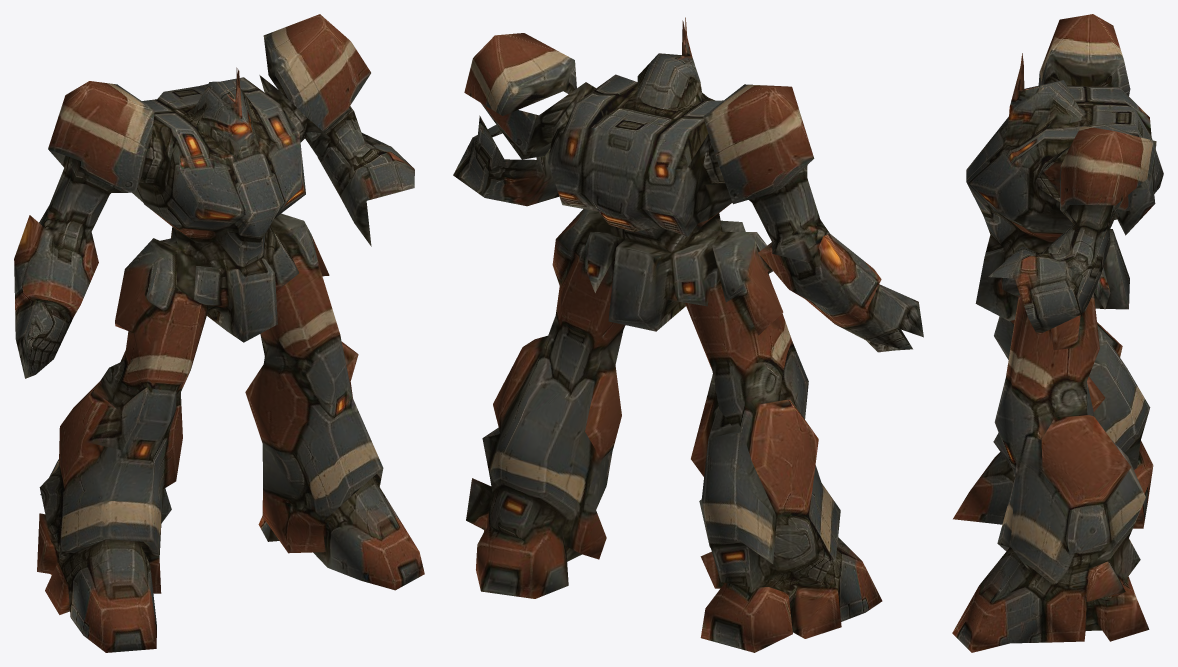
The model's file is basalt.glb.
3 renders of one model, left to right at view 1: azimuth 30°, elevation 25°; view 2: azimuth 150°, elevation 25°; view 3: azimuth 270°, elevation 25°, orthographic. The views are drawn at different scales.
Parts seen in each view (by area): view 1: torso, legR, legL, armSwing, armAim; view 2: torso, legR, legL, armSwing, armAim; view 3: legL, torso, armAim, legR, armSwing.
Part boxes in pixels (x1=…): torso: x1=110, y1=67, x2=339, y2=382; legR: x1=37, y1=313, x2=206, y2=652; legL: x1=245, y1=285, x2=424, y2=590; armSwing: x1=14, y1=81, x2=154, y2=395; armAim: x1=263, y1=14, x2=414, y2=246; torso: x1=481, y1=17, x2=790, y2=341; legR: x1=685, y1=286, x2=882, y2=652; legL: x1=466, y1=307, x2=625, y2=598; armSwing: x1=703, y1=84, x2=923, y2=377; armAim: x1=453, y1=33, x2=576, y2=206; legL: x1=952, y1=299, x2=1149, y2=652; torso: x1=966, y1=53, x2=1163, y2=385; armAim: x1=988, y1=125, x2=1156, y2=335; legR: x1=953, y1=316, x2=1153, y2=528; armSwing: x1=1038, y1=14, x2=1123, y2=195.
Size of the model in its own units: 0.7838 by 0.9767 by 0.3582.
1 material, 1 textured.
